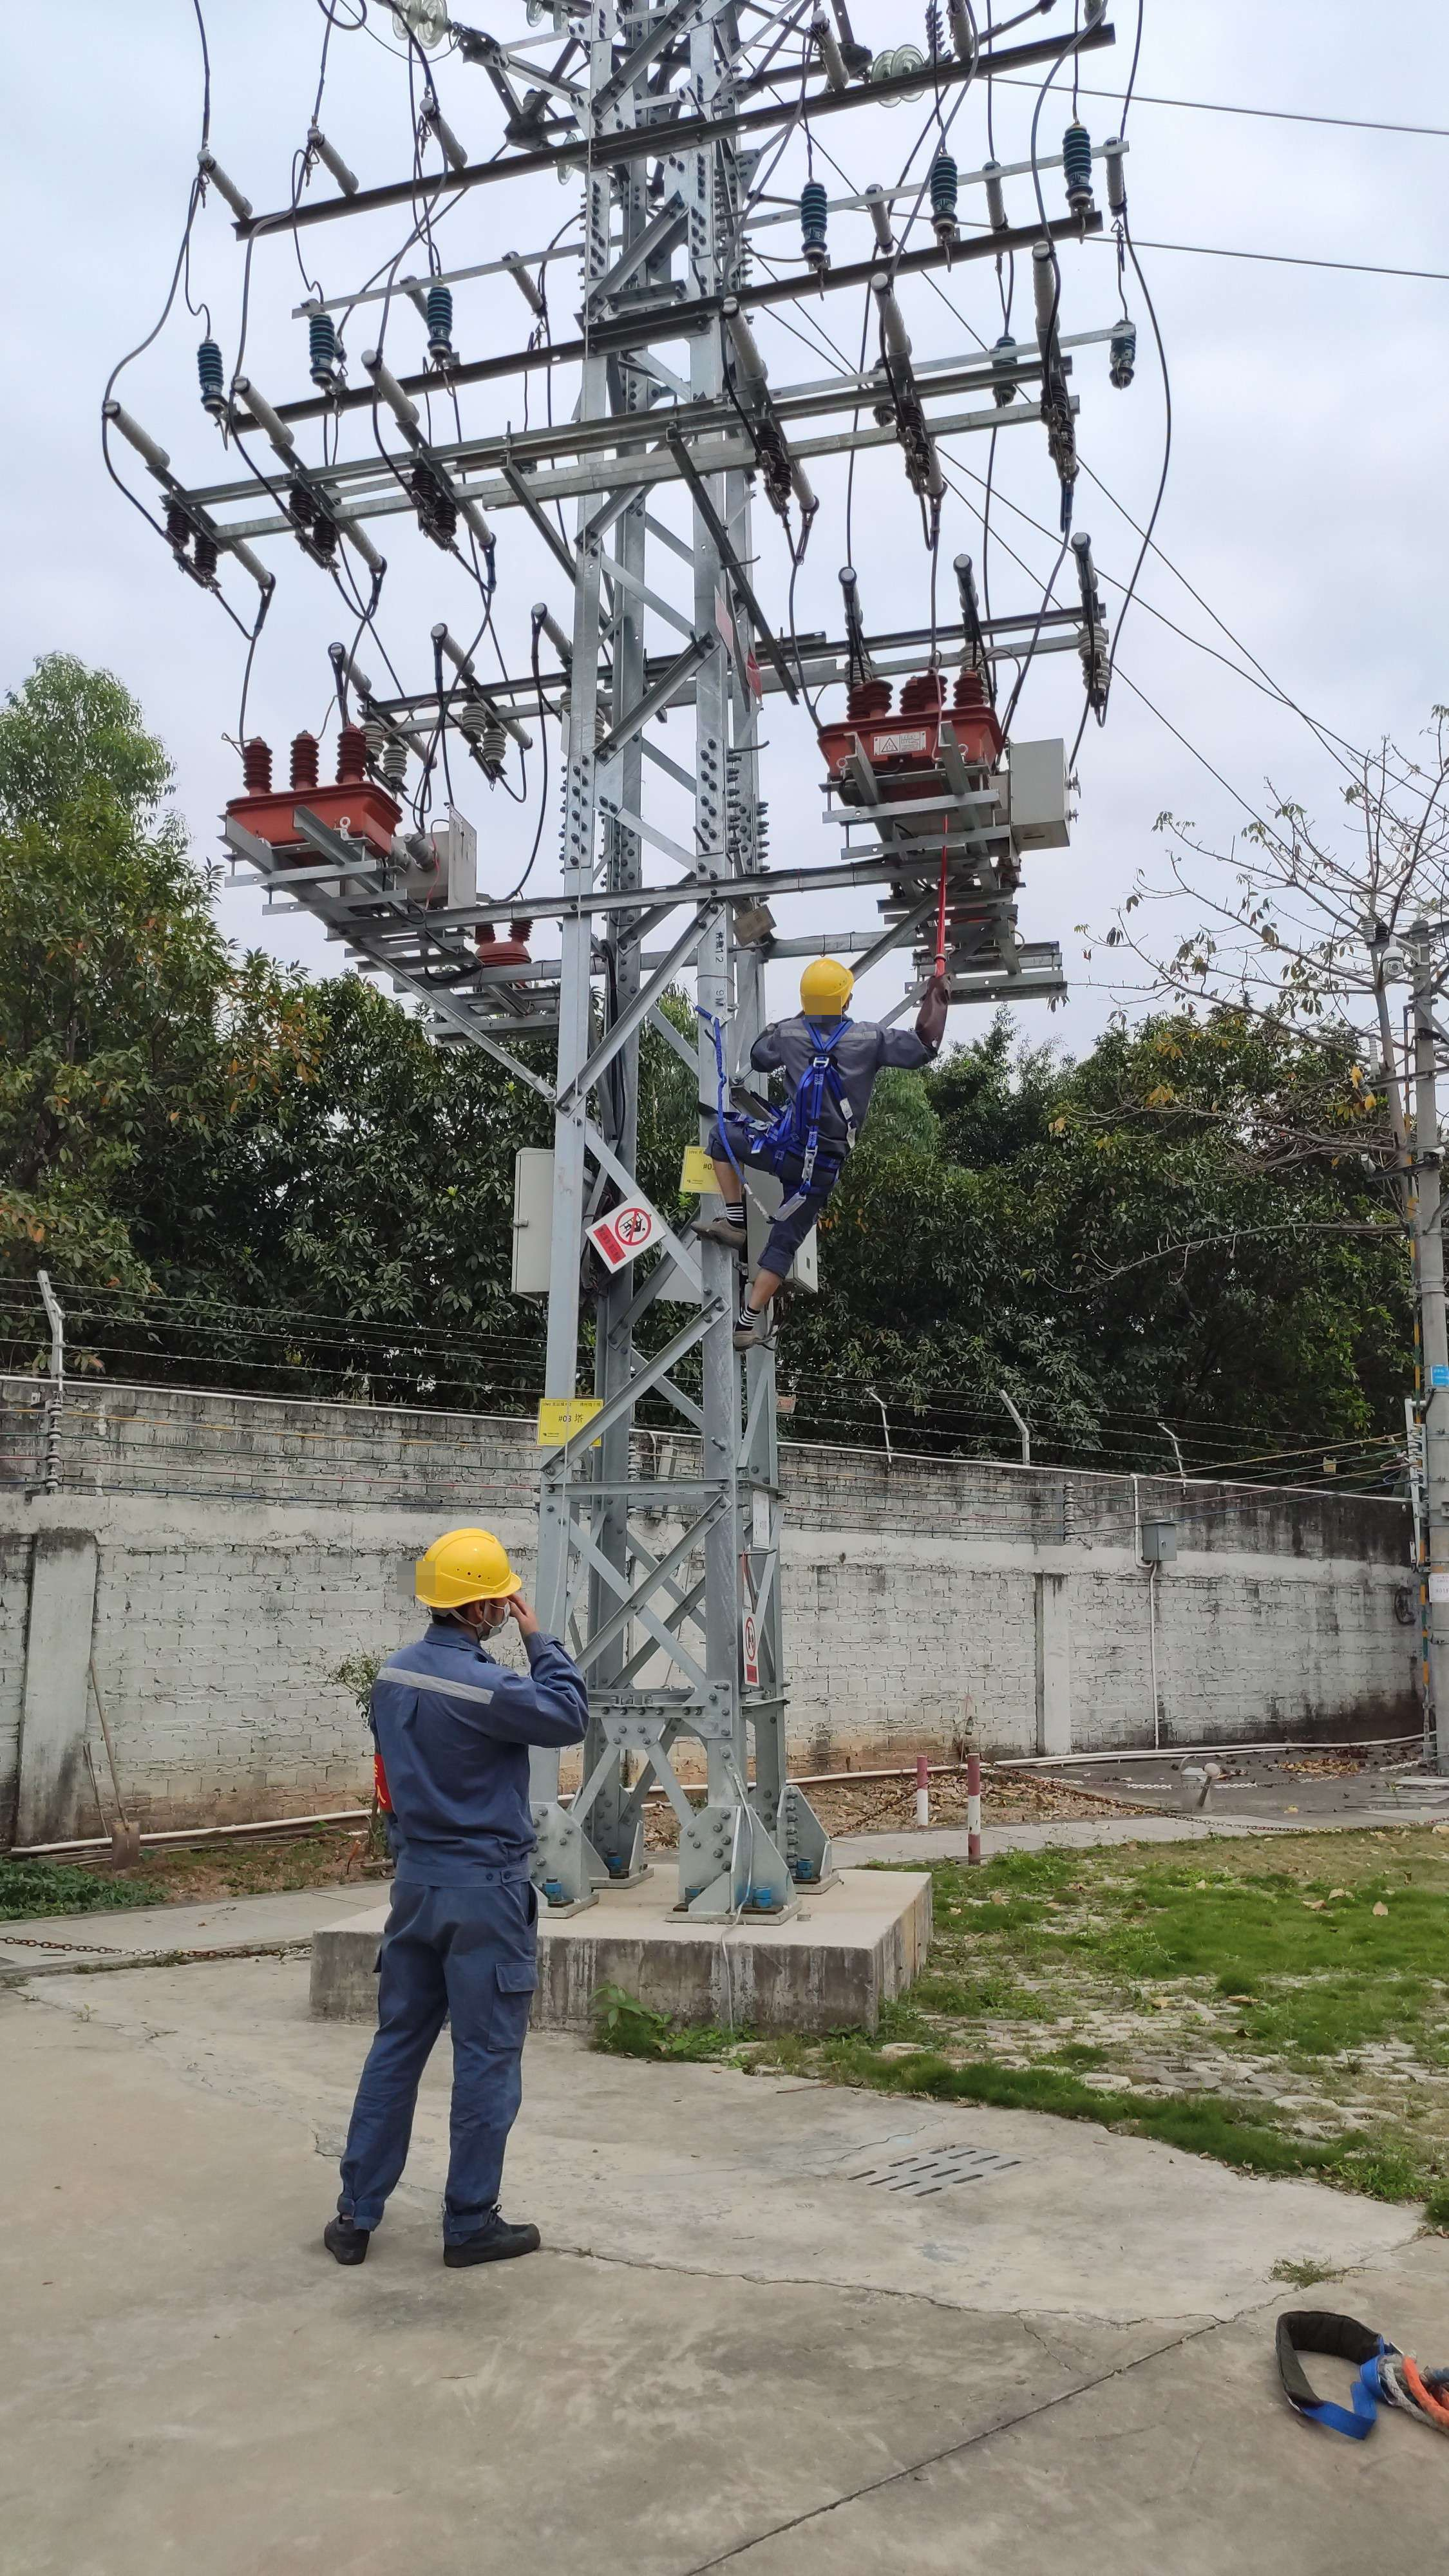downsuit: (338, 1895, 547, 2224), (720, 1134, 846, 1281)
upsuit: (361, 1626, 596, 1877), (757, 1021, 916, 1134)
wrongbottom: (747, 1249, 793, 1318), (706, 1150, 750, 1215)
